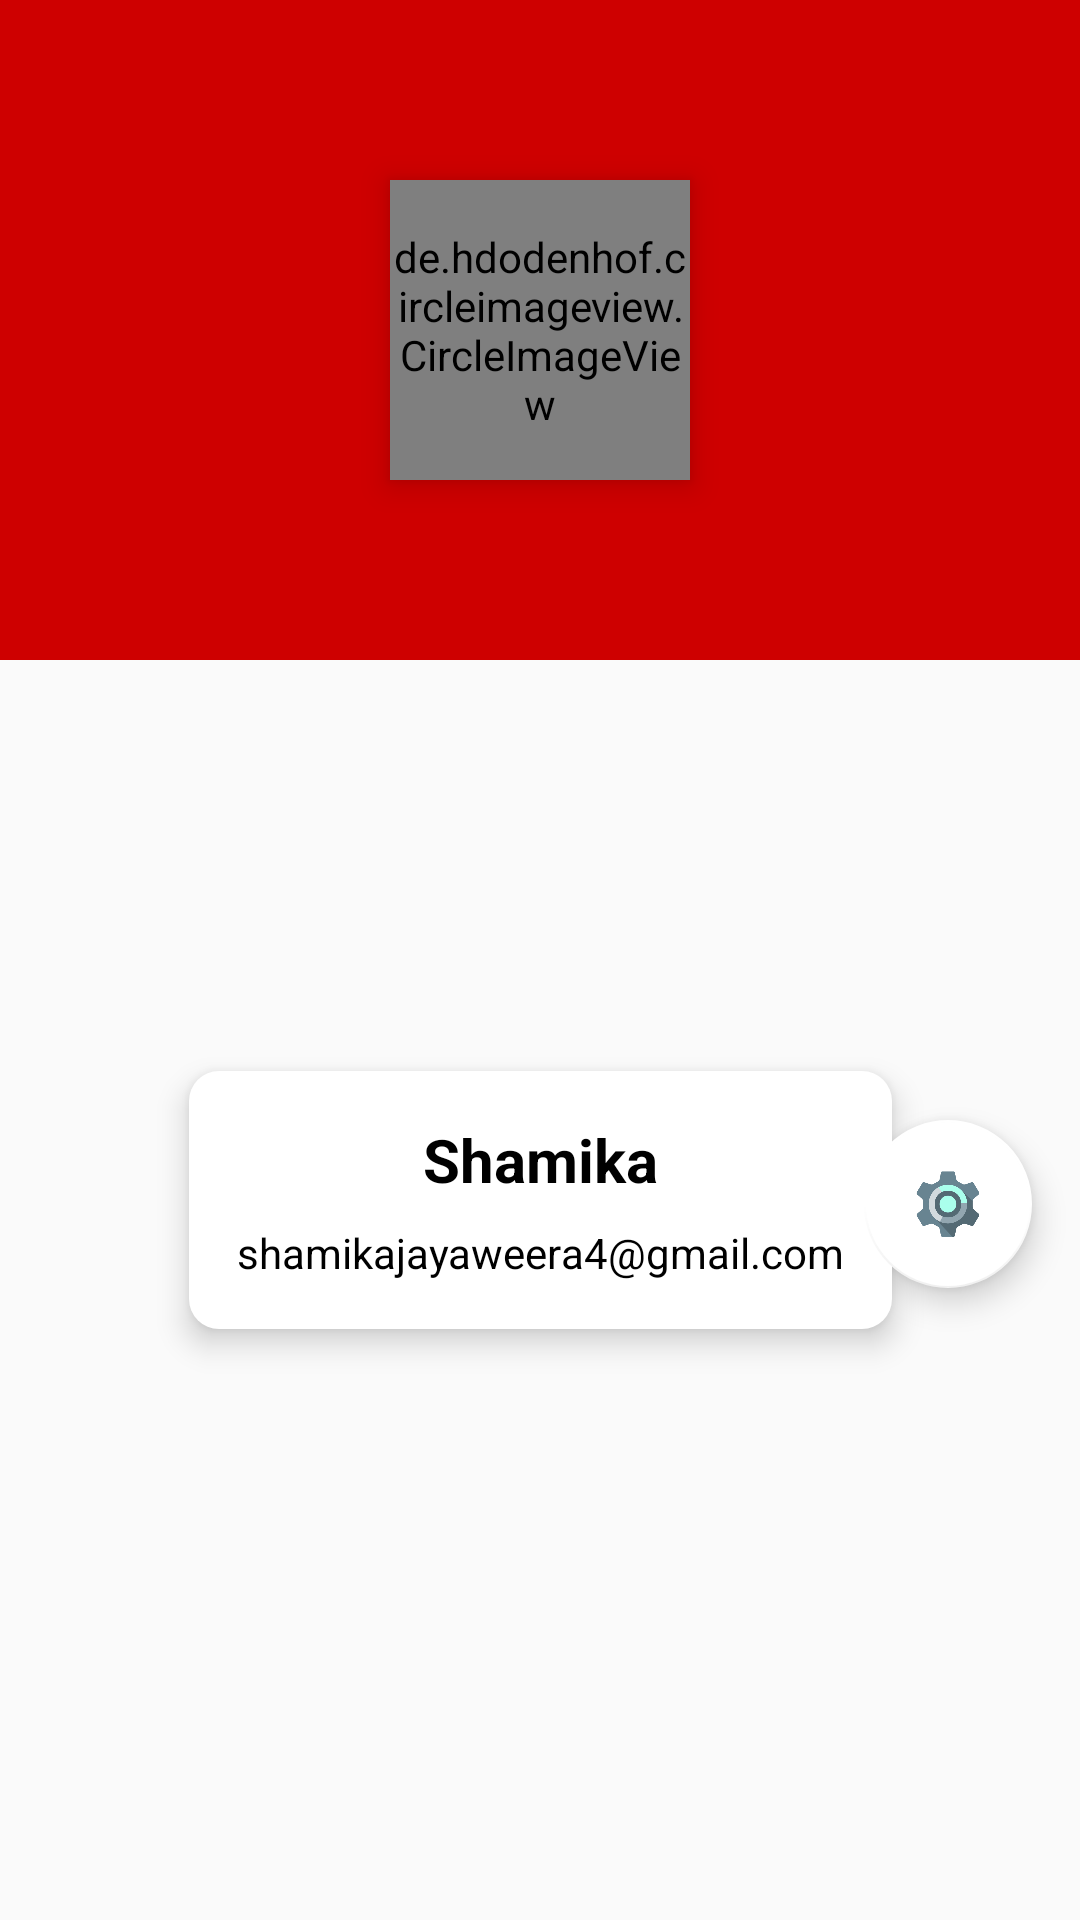

Screen size 1080×1920. Icon name, then its center in pixels as [x,y]:
settings: [971,1201]
